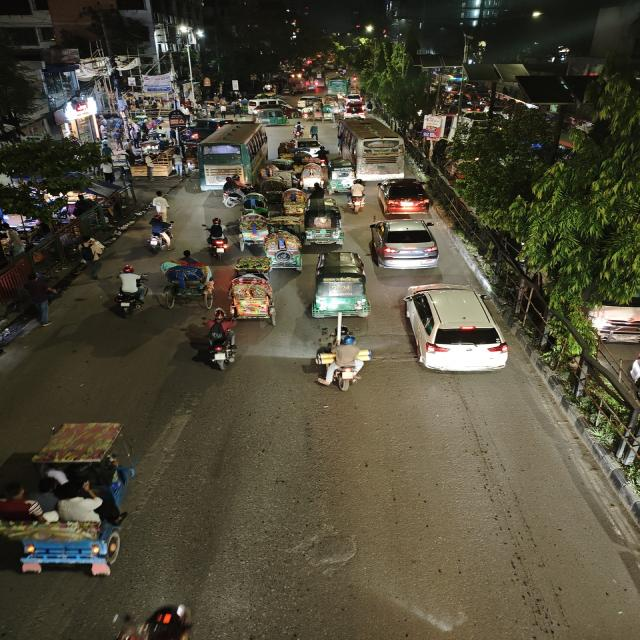bus: (194, 122, 272, 188), (334, 118, 407, 179), (326, 77, 351, 96)
car: (396, 281, 514, 379), (365, 216, 444, 272), (374, 176, 436, 216), (288, 138, 326, 157)
cng: (309, 250, 372, 320), (160, 261, 219, 311), (301, 206, 346, 247), (327, 156, 356, 192), (252, 103, 290, 126)
motorcycle: (310, 329, 376, 393), (200, 311, 241, 374), (110, 266, 149, 318), (142, 215, 176, 253), (201, 218, 231, 260), (218, 175, 250, 207), (346, 178, 369, 214)
pedestrian: (18, 276, 58, 326), (76, 239, 106, 280), (149, 189, 172, 219)
rickshaw: (0, 456, 148, 582), (225, 261, 281, 327), (160, 260, 218, 311), (265, 230, 305, 272), (236, 208, 270, 244), (281, 187, 303, 217), (319, 99, 341, 119), (317, 106, 336, 122)
